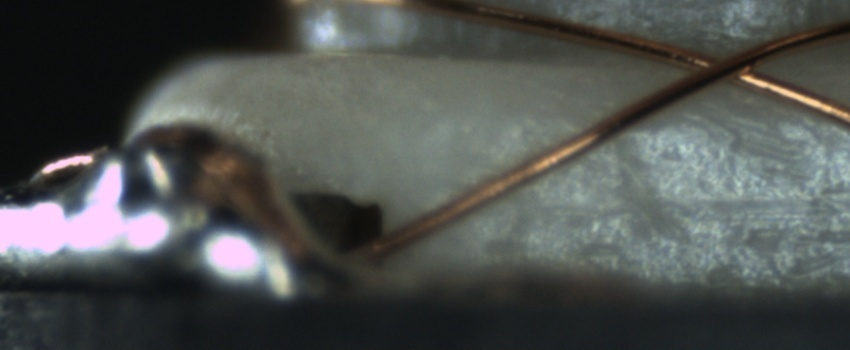CL: (671, 38, 790, 92)
DL: (518, 174, 846, 238), (463, 99, 763, 163)
TE: (33, 144, 103, 179)
